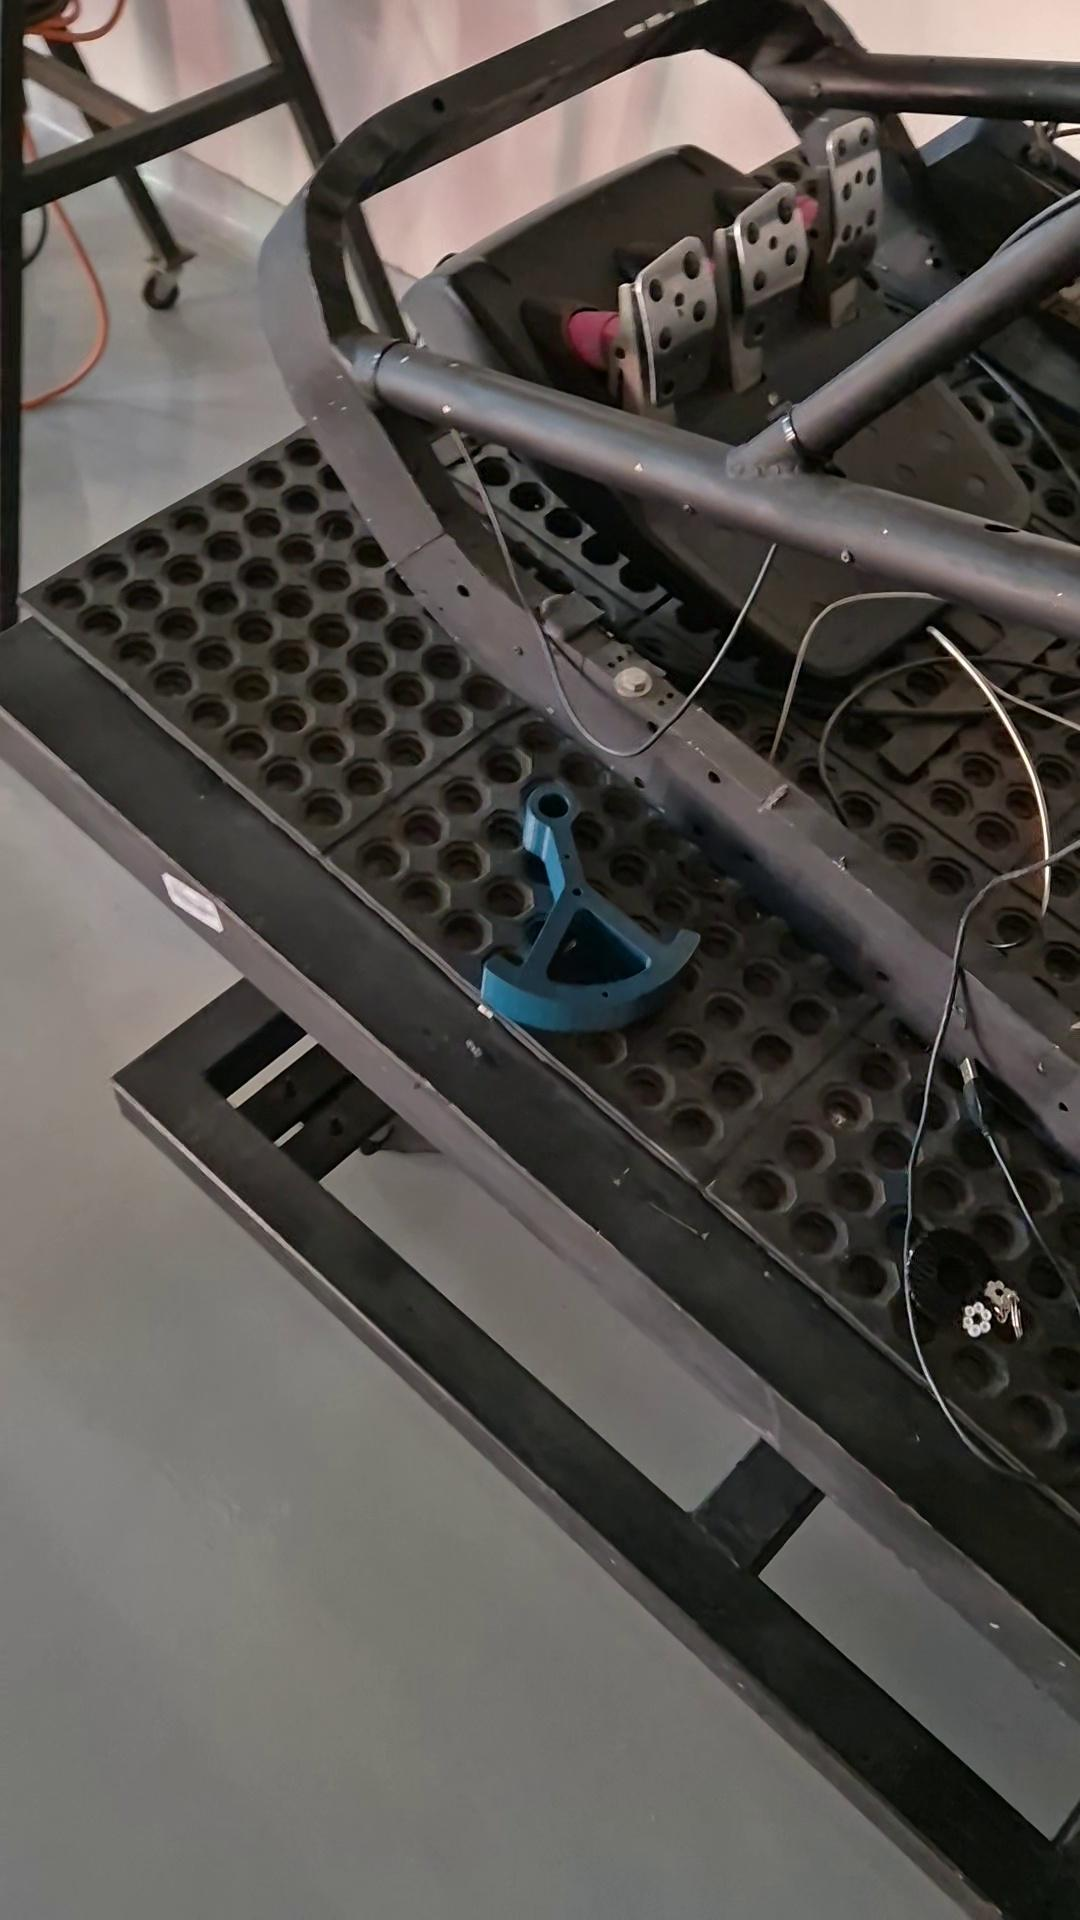Paddles: (477, 782, 703, 1035)
